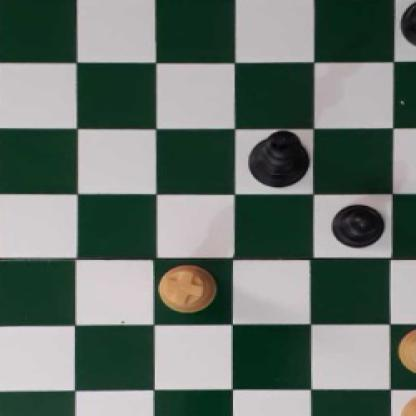black-king: (245, 129, 313, 187)
black-pawn: (331, 201, 384, 249)
black-rook: (398, 0, 416, 48)
white-bishop: (398, 324, 416, 376)
white-king: (398, 392, 416, 416)
white-rook: (158, 264, 216, 312)
